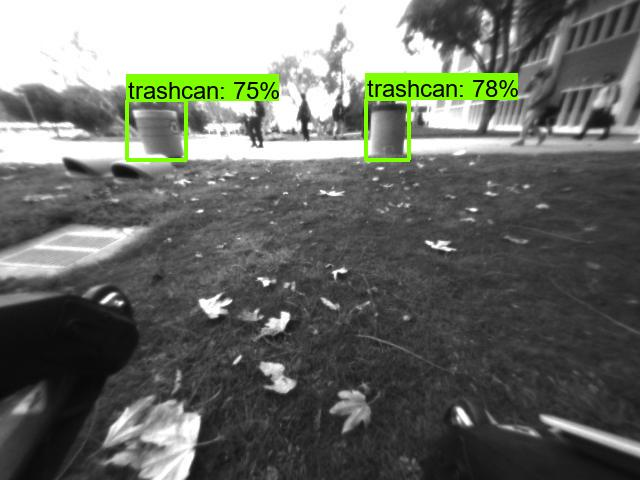trashcan: (126, 106, 192, 162), (368, 103, 406, 161)
